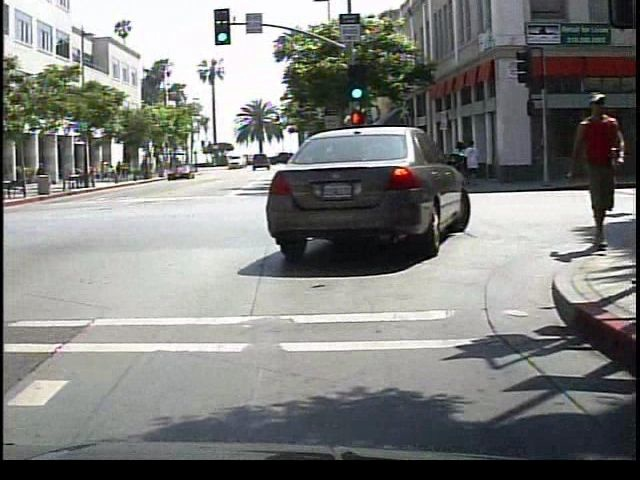person: (554, 87, 623, 264), (29, 158, 47, 190)
